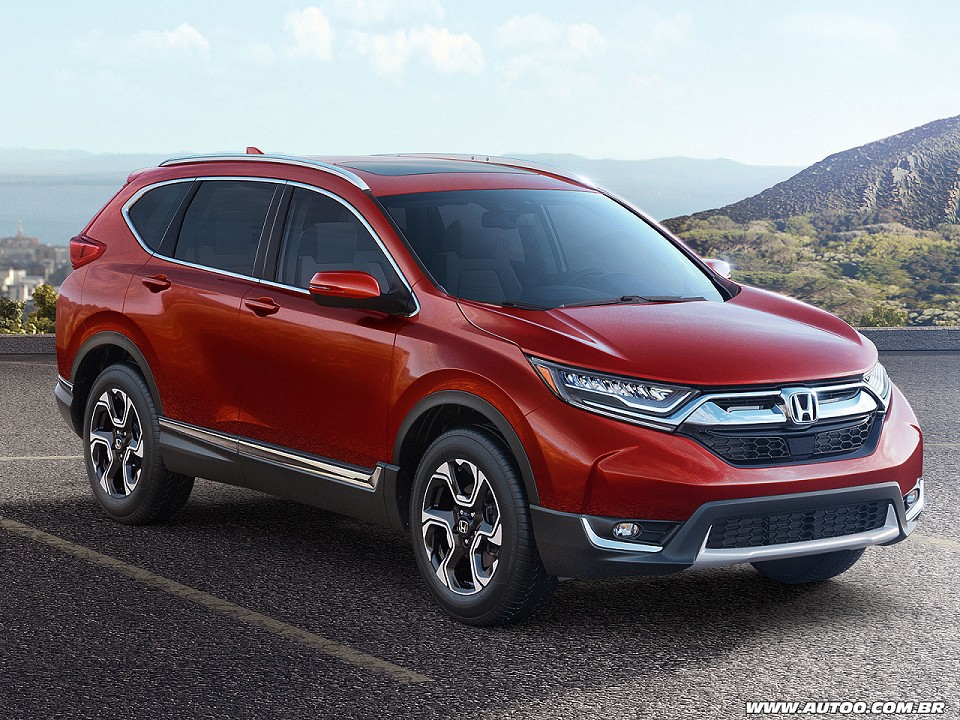Carro: (52, 147, 934, 642)
